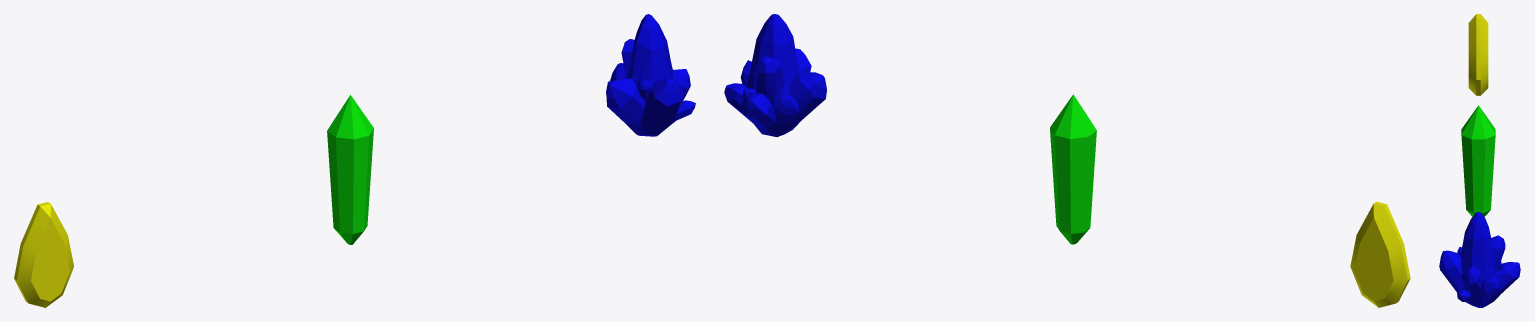
The model's file is Crystals.fbx.
3 renders of one model, left to right at view 1: azimuth 30°, elevation 25°; view 2: azimuth 150°, elevation 25°; view 3: azimuth 270°, elevation 25°, orthographic. The views are drawn at different scales.
Parts seen in each view (by area): view 1: Crystal3_low, Crystal2_low, Crystal1_low; view 2: Crystal3_low, Crystal2_low, Crystal1_low; view 3: Crystal3_low, Crystal2_low, Crystal1_low.
Part boxes in pixels (x1,y1,x2,y2): Crystal3_low: (606,14,695,136); Crystal2_low: (327,95,373,244); Crystal1_low: (14,202,73,307); Crystal3_low: (724,14,826,136); Crystal2_low: (1050,94,1096,244); Crystal1_low: (1350,201,1410,307); Crystal3_low: (1439,212,1520,307); Crystal2_low: (1461,105,1495,216); Crystal1_low: (1468,14,1488,95).
Size of the model in its own units: 0.6628 by 0.1476 by 0.0894.
